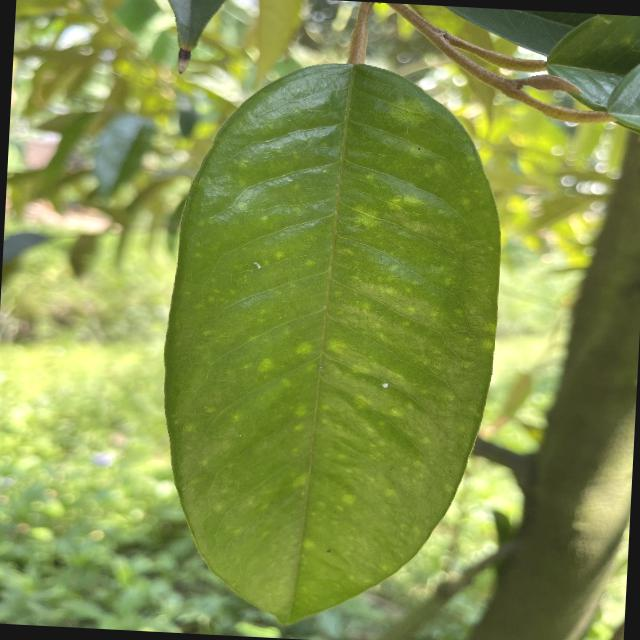Leaf Spot: (141, 41, 525, 638)
